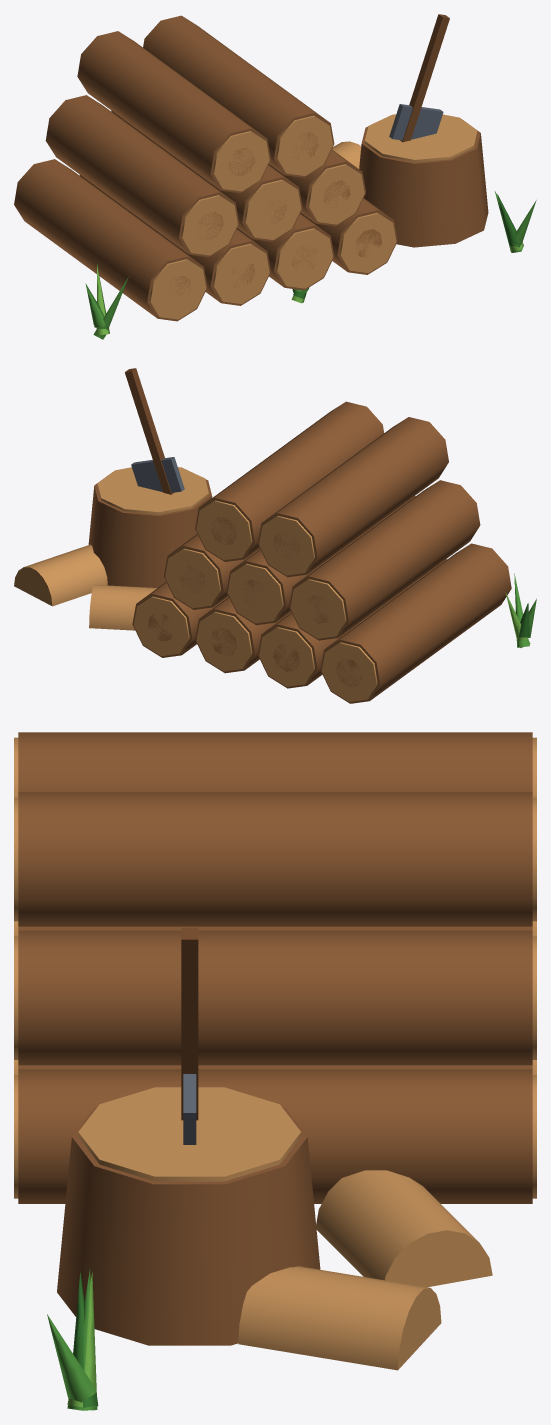
File: Woodpile.glb
3 views of the same model, one above another, from view 1: azimuth 30°, elevation 25°; view 2: azimuth 150°, elevation 25°; view 3: azimuth 270°, elevation 25° (orthographic). The views are drawn at different scales.
Visible parts, largest first — view 1: Body, Sway; view 2: Body, Sway; view 3: Body, Sway.
Part boxes in pixels (x1,y1,x2,y2): Body: (14, 14, 488, 321); Sway: (85, 191, 536, 339); Body: (14, 368, 511, 703); Sway: (505, 573, 536, 647); Body: (14, 732, 536, 1370); Sway: (47, 1268, 98, 1410).
Bounding box in the file's own units: 4.67 × 2.26 × 2.44.
Materials: 2 (2 with a texture image).
